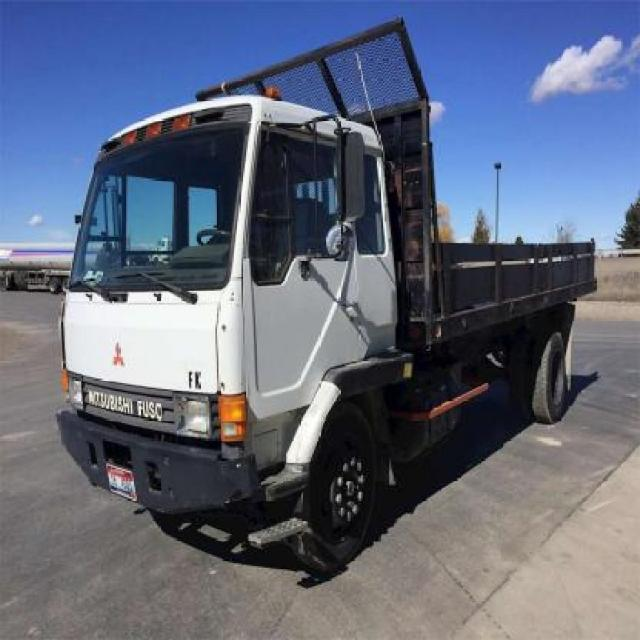truck: (57, 16, 597, 573)
